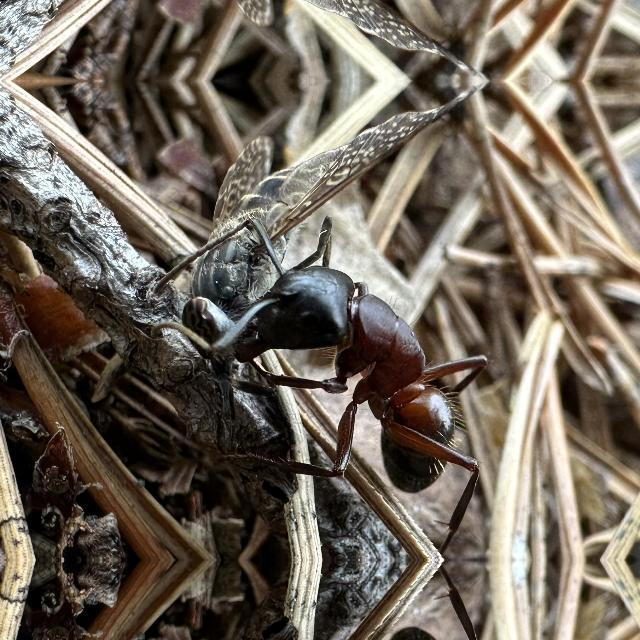Camponotus: (192, 218, 538, 518)
